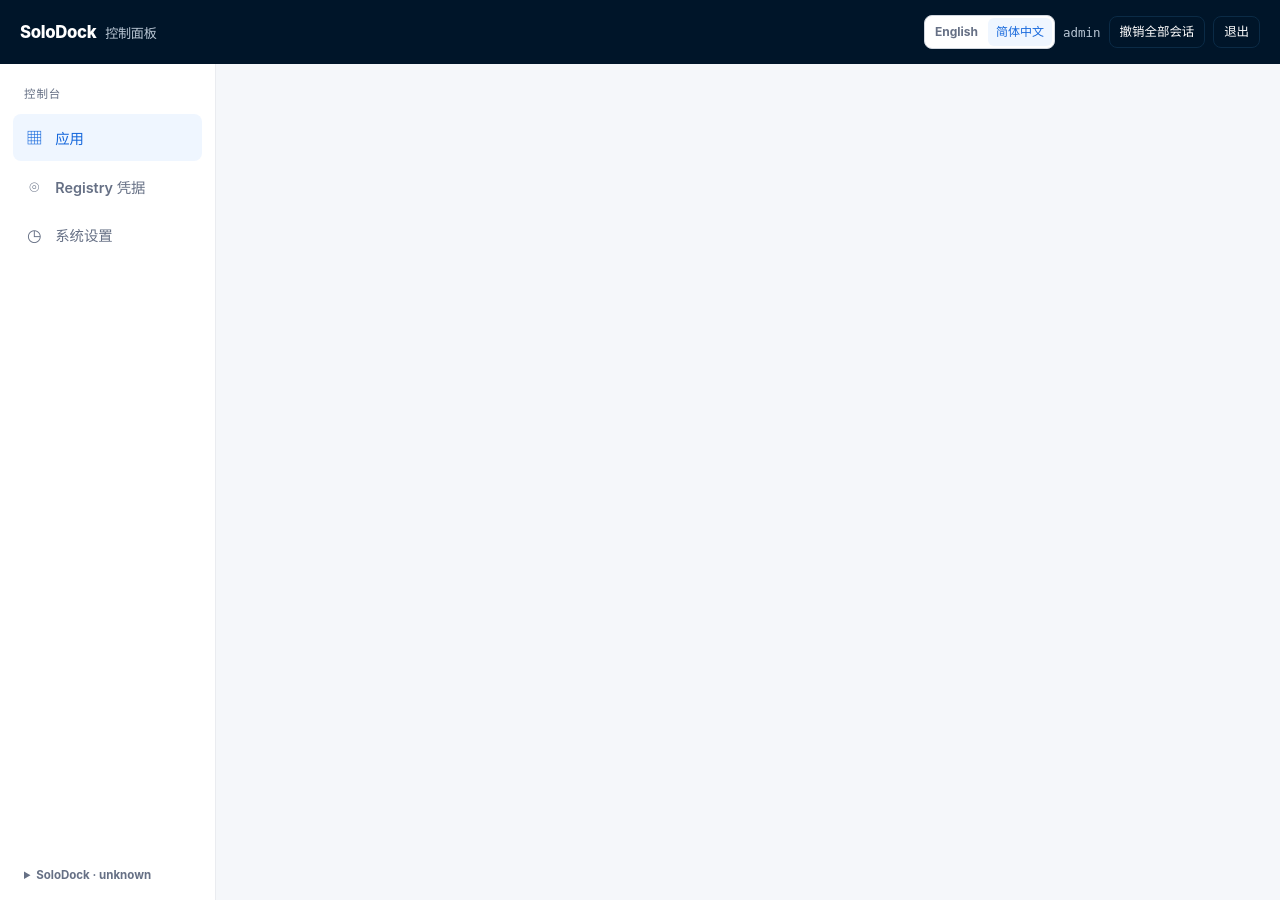
AppShell › falls back to a bilingual unknown identity without blocking navigation
Click the heading "SoloDock · unknown" at {"x": 94, "y": 875}, box [36,868,151,882]
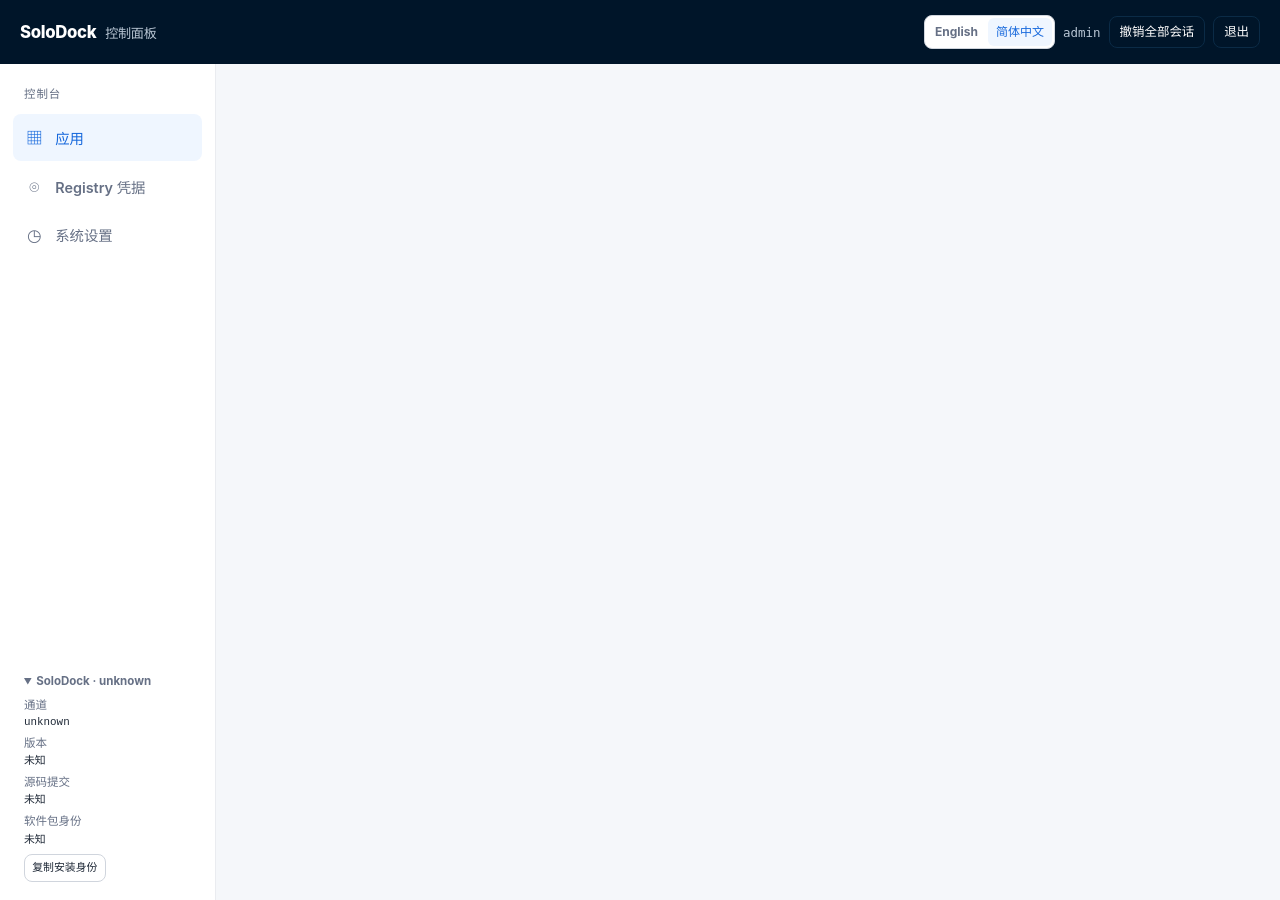
Expected: the link "▦ 应用" is shown, [13,114,202,161]
Result: the text "源码提交" is shown at [24,775,70,789]
